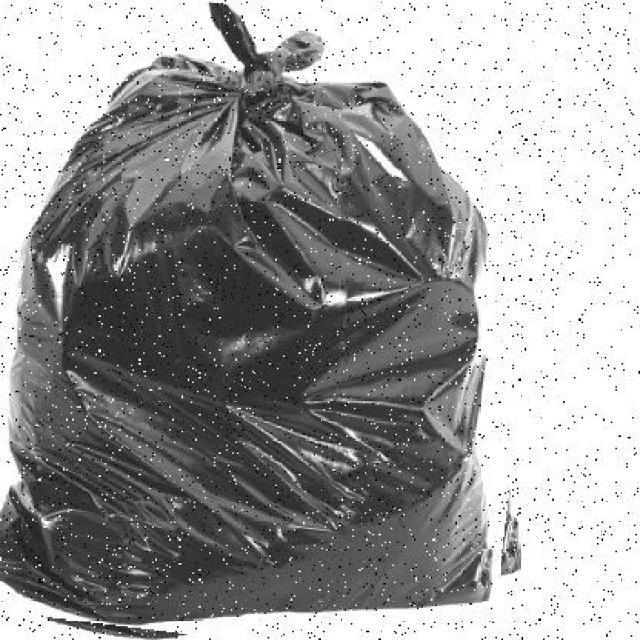waste: (0, 0, 544, 638)
